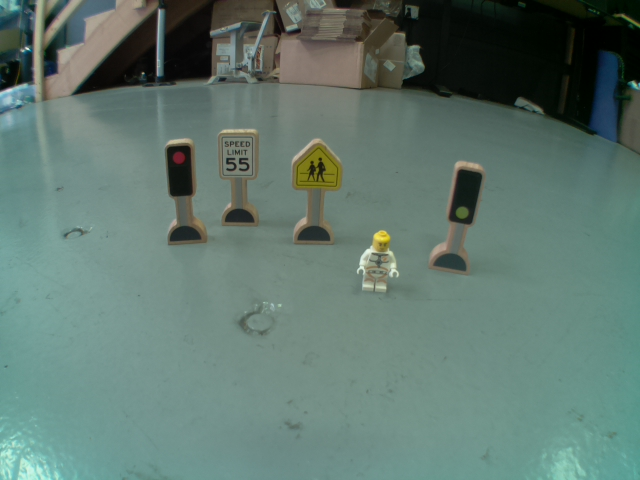Green Traffic Light: (445, 163, 482, 226)
Red Traffic Light: (163, 139, 195, 197)
Speed Limit 55: (215, 129, 258, 180)
YIELD: (290, 136, 344, 190)
person: (353, 227, 401, 297)
